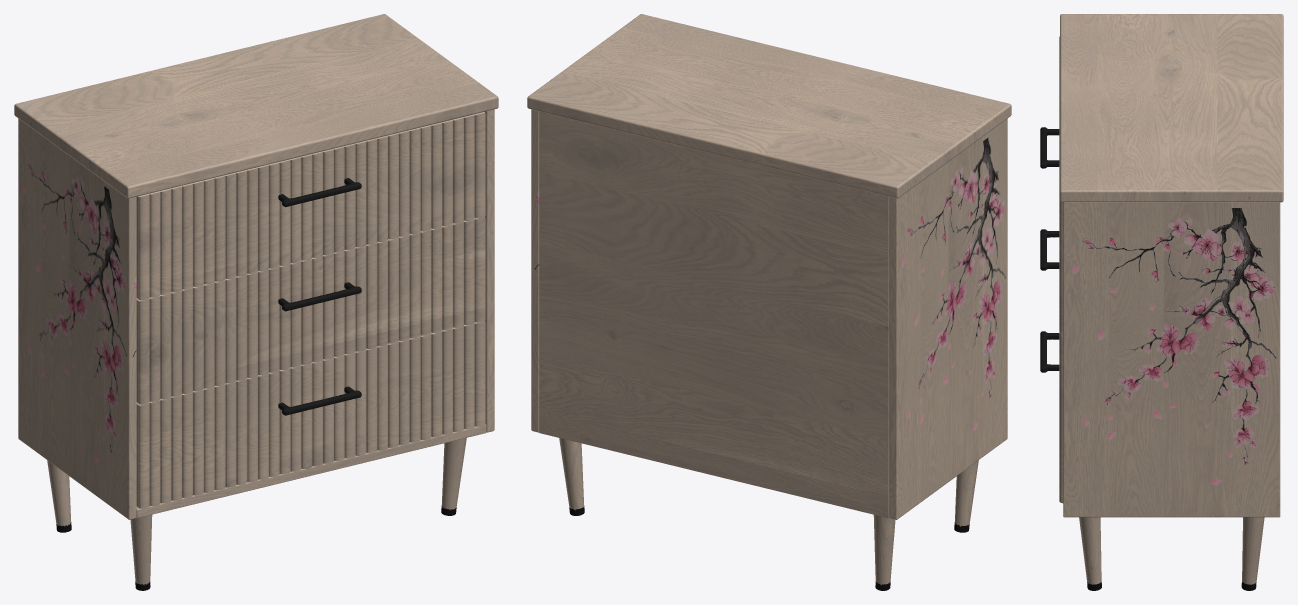
The model's file is comoda_nordico.glb.
3 renders of one model, left to right at view 1: azimuth 30°, elevation 25°; view 2: azimuth 150°, elevation 25°; view 3: azimuth 270°, elevation 25°, orthographic. The views are drawn at different scales.
Visible parts, largest first — view 1: tampo, lateral_esq, frente_ripado_3, frente_ripado_2, frente_ripado_1, lateral_dir, fundo, pe_1_1, frente_tabua_3, pe_-1_1, pe_-1_-1, frente_tabua_2 (+4 smaller); view 2: costas, tampo, lateral_esq, lateral_dir, fundo, pe_1_-1, pe_-1_-1, pe_-1_1; view 3: lateral_dir, tampo, pe_1_1, pe_1_-1, frente_ripado_3, frente_ripado_2, frente_ripado_1, puxador_1, puxador_2, puxador_3.
Part boxes in pixels (x1,y1,x2,y2): tampo: (14, 14, 498, 198); lateral_esq: (18, 118, 136, 519); frente_ripado_3: (138, 113, 485, 300); frente_ripado_2: (138, 218, 485, 404); frente_ripado_1: (138, 322, 485, 508); lateral_dir: (484, 109, 494, 432); fundo: (136, 424, 486, 517); pe_1_1: (441, 438, 466, 510); frente_tabua_3: (136, 112, 484, 298); pe_-1_1: (130, 514, 152, 585); pe_-1_-1: (47, 460, 71, 526); frente_tabua_2: (136, 217, 484, 403); costas: (539, 111, 889, 518); tampo: (527, 14, 1011, 198); lateral_esq: (889, 118, 1007, 519); lateral_dir: (531, 109, 539, 432); fundo: (540, 426, 887, 517); pe_1_-1: (559, 438, 583, 510); pe_-1_-1: (873, 515, 895, 585); pe_-1_1: (954, 460, 978, 526); lateral_dir: (1063, 202, 1280, 517); tampo: (1060, 14, 1283, 202); pe_1_1: (1079, 517, 1101, 584); pe_1_-1: (1242, 517, 1264, 584); frente_ripado_3: (1059, 36, 1063, 298); frente_ripado_2: (1059, 297, 1063, 401); frente_ripado_1: (1059, 400, 1063, 503); puxador_1: (1040, 331, 1059, 372); puxador_2: (1040, 229, 1059, 270); puxador_3: (1040, 127, 1059, 168).
Size of the model in its own units: 0.812 by 0.8807 by 0.47.
Materials: 5 (2 with a texture image).
